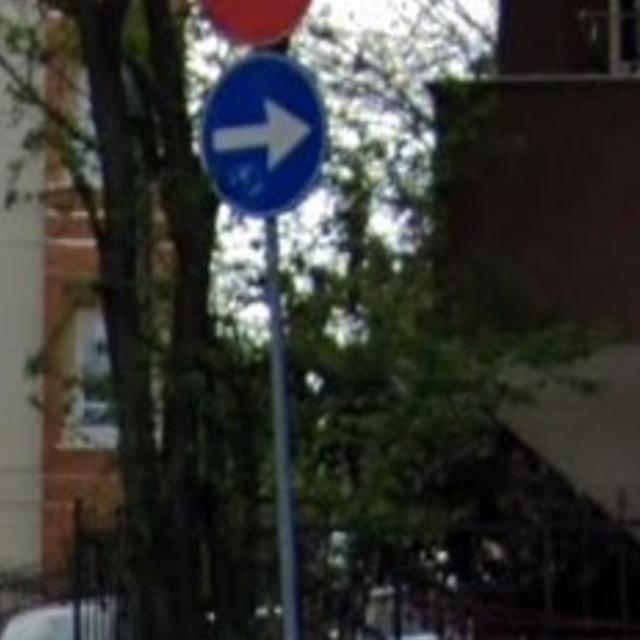Turn Right: (196, 52, 334, 224)
